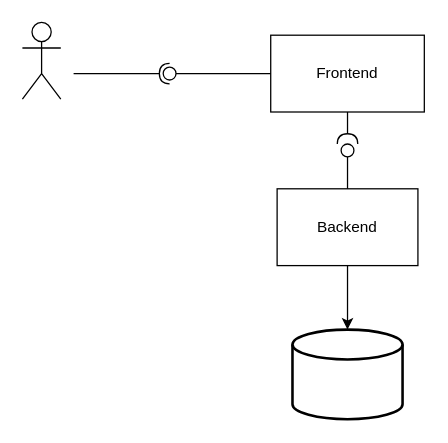
Image size: 448x443. Some labels were removed from this diagram. The box of each missing label's shape, as (x1, y1, x2, y2) in pixels:
Base de datos: (291, 328, 403, 420)
user: (21, 21, 61, 99)
